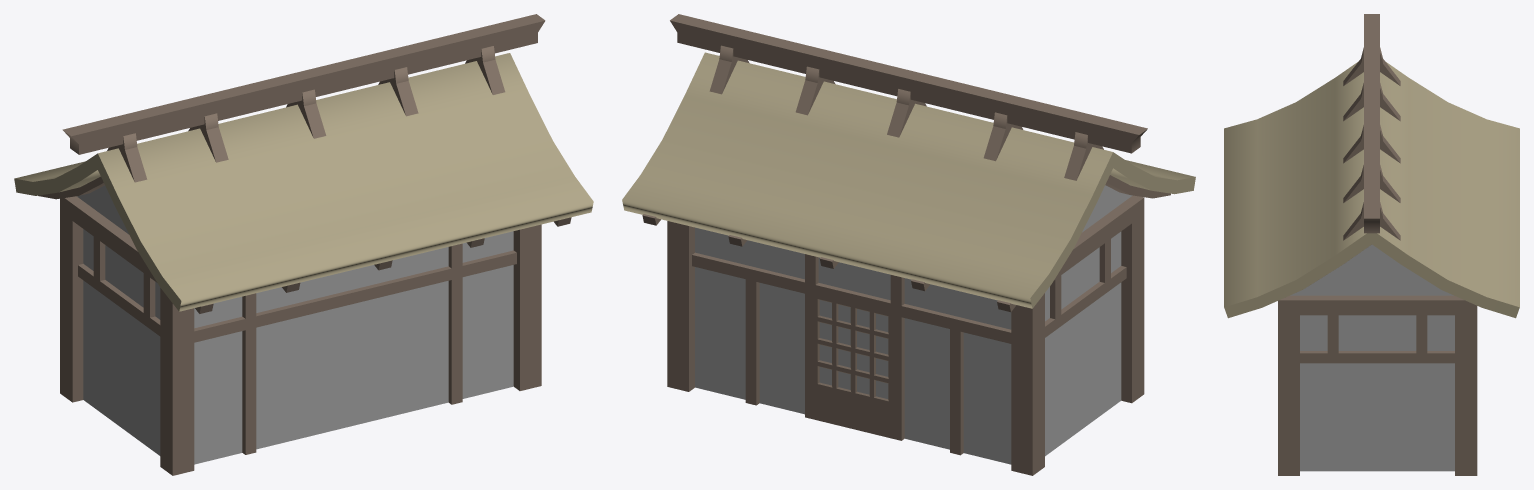
The model's file is building16x8.fbx.
3 views of the same model, side by side, from view 1: azimuth 30°, elevation 25°; view 2: azimuth 150°, elevation 25°; view 3: azimuth 270°, elevation 25° (orthographic). The views are drawn at different scales.
Parts seen in each view (by area): view 1: polySurface18, building_16x8, pCube67, pCube41, pCube46, pCube40, pCube42, pCube66, pCube61, pCube62, pCube47, building_8x11 (+6 smaller); view 2: polySurface18, building_16x8, pCube67, pCube54, pCube42, pCube45, pCube39, pCube41, pCube66, pCube55, pCube52, pCube53 (+9 smaller); view 3: polySurface18, building_16x8, building_8x11, pCube66, pCube39, pCube40, pCube67, pCube43, pCube68, pCube71, pCube70, pCube72 (+3 smaller).
Boxes of the visible parts, box(x1,y1,x2,y2) form: polySurface18: box(14, 53, 593, 311); building_16x8: box(83, 229, 513, 464); pCube67: box(62, 14, 545, 154); pCube41: box(160, 288, 194, 475); pCube46: box(194, 250, 516, 342); pCube40: box(513, 224, 541, 390); pCube42: box(60, 212, 83, 402); pCube66: box(60, 196, 157, 282); pCube61: box(448, 277, 462, 404); pCube62: box(242, 328, 256, 454); pCube47: box(78, 263, 160, 336); building_8x11: box(77, 185, 128, 234); polySurface18: box(622, 52, 1195, 308); building_16x8: box(695, 227, 1121, 464); pCube67: box(670, 14, 1147, 153); pCube54: box(815, 296, 890, 438); pCube42: box(1011, 293, 1044, 475); pCube45: box(692, 252, 1011, 343); pCube39: box(667, 221, 694, 391); pCube41: box(1121, 215, 1144, 403); pCube66: box(1054, 195, 1144, 279); pCube55: box(890, 314, 904, 440); pCube52: box(745, 279, 759, 405); pCube53: box(950, 329, 963, 455); polySurface18: box(1224, 61, 1519, 318); building_16x8: box(1300, 315, 1454, 471); building_8x11: box(1290, 244, 1453, 295); pCube66: box(1278, 295, 1477, 315); pCube39: box(1455, 315, 1477, 475); pCube40: box(1278, 315, 1299, 475); pCube67: box(1364, 14, 1379, 233); pCube43: box(1300, 351, 1454, 363); pCube68: box(1343, 202, 1400, 240); pCube71: box(1343, 83, 1400, 121); pCube70: box(1343, 125, 1400, 163); pCube72: box(1343, 47, 1400, 85).
Size of the model in its own units: 2186 by 1395 by 1335.
